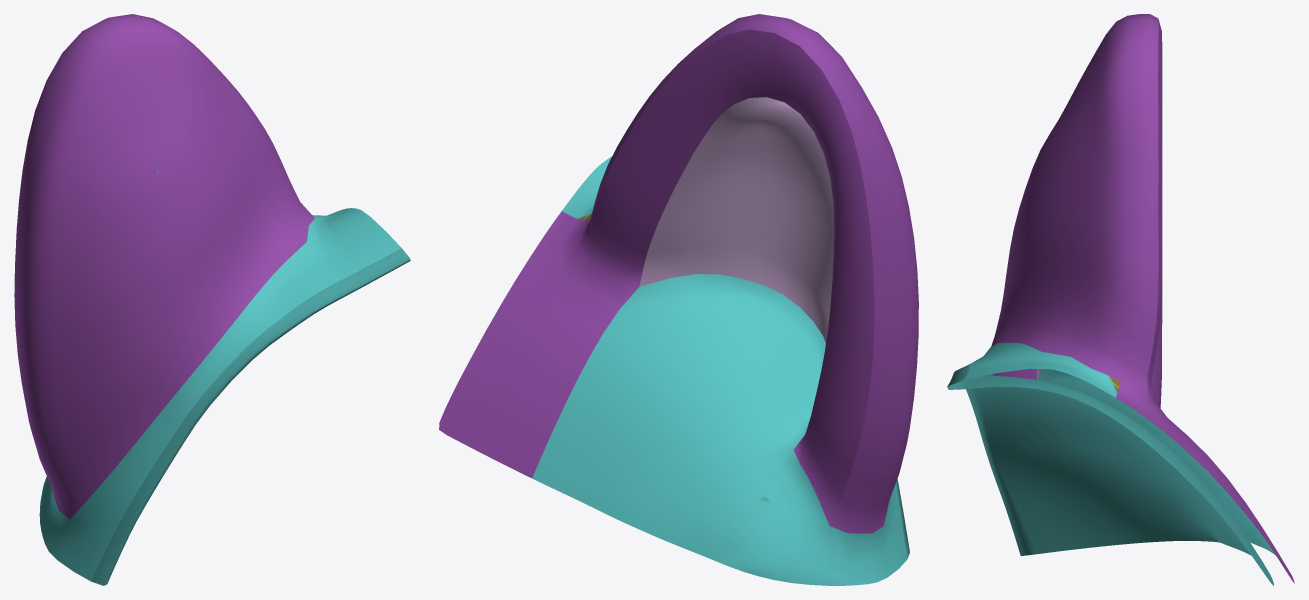
Rendered from shard2.fbx.
The picture shows the model from 3 angles, left to right: view 1: azimuth 30°, elevation 25°; view 2: azimuth 150°, elevation 25°; view 3: azimuth 270°, elevation 25°; orthographic projection. The views are drawn at different scales.
Parts seen in each view (by area): view 1: U_EnemyShard02; view 2: U_EnemyShard02; view 3: U_EnemyShard02.
Boxes of the visible parts, x1=… form: U_EnemyShard02: x1=14, y1=14, x2=410, y2=585; U_EnemyShard02: x1=439, y1=14, x2=918, y2=585; U_EnemyShard02: x1=947, y1=14, x2=1294, y2=585.
Bounding box in the file's own units: 0.7443 × 1.03 × 0.5675.
